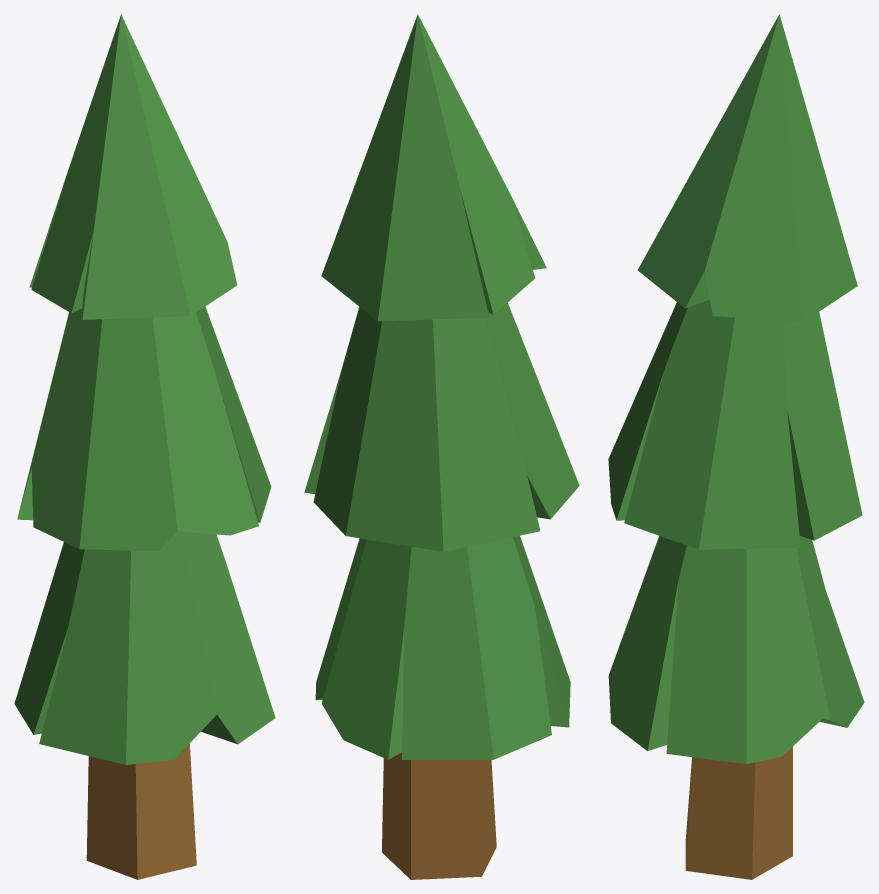
File: Tree_1.fbx
3 views of the same model, side by side, from view 1: azimuth 30°, elevation 25°; view 2: azimuth 150°, elevation 25°; view 3: azimuth 270°, elevation 25° (orthographic). The views are drawn at different scales.
Parts seen in each view (by area): view 1: Circle; view 2: Circle; view 3: Circle.
Part boxes in pixels (left/top/right/bottom): Circle: left=14, top=14, right=275, bottom=879; Circle: left=304, top=14, right=579, bottom=879; Circle: left=608, top=14, right=864, bottom=879.
Size of the model in its own units: 143 by 137 by 497.
